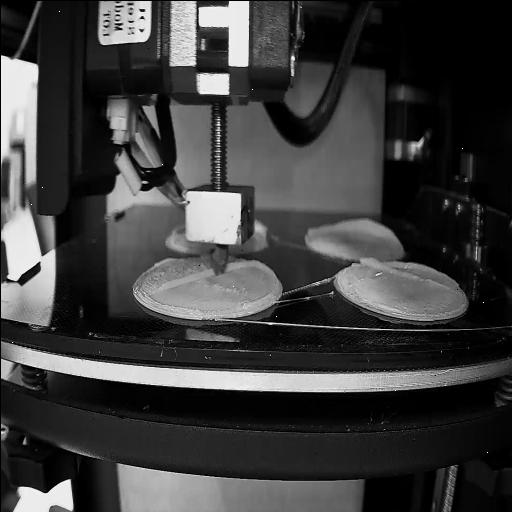over_extrusion: (304, 214, 400, 250), (360, 252, 450, 289), (155, 264, 211, 292), (226, 258, 258, 272), (252, 216, 268, 240), (170, 222, 184, 234)
